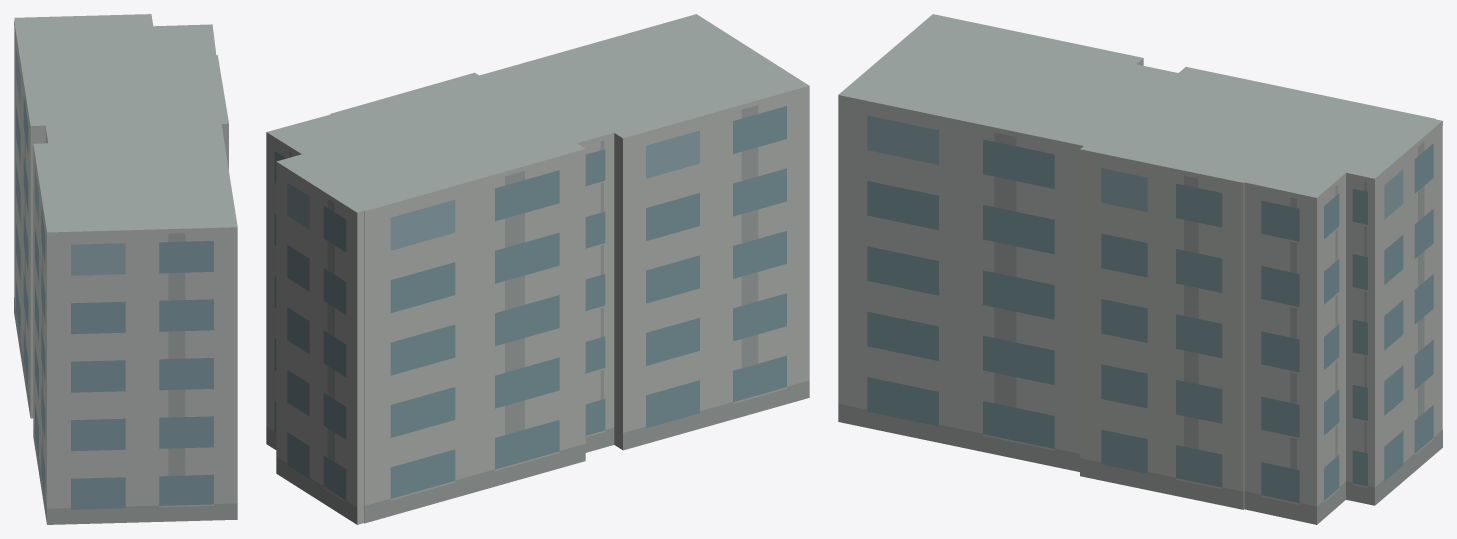
File: survey-upis-32891604.glb
3 renders of one model, left to right at view 1: azimuth 30°, elevation 25°; view 2: azimuth 150°, elevation 25°; view 3: azimuth 270°, elevation 25°, orthographic. The views are drawn at different scales.
Visible parts, largest first — view 1: survey-upis-32891604.tmp; view 2: survey-upis-32891604.tmp; view 3: survey-upis-32891604.tmp.
Boxes of the visible parts, box(x1,y1,x2,y2) form: survey-upis-32891604.tmp: box(14, 14, 237, 524); survey-upis-32891604.tmp: box(266, 14, 809, 524); survey-upis-32891604.tmp: box(838, 14, 1442, 524).
Bounding box in the file's own units: 19.32 × 16 × 26.82.
